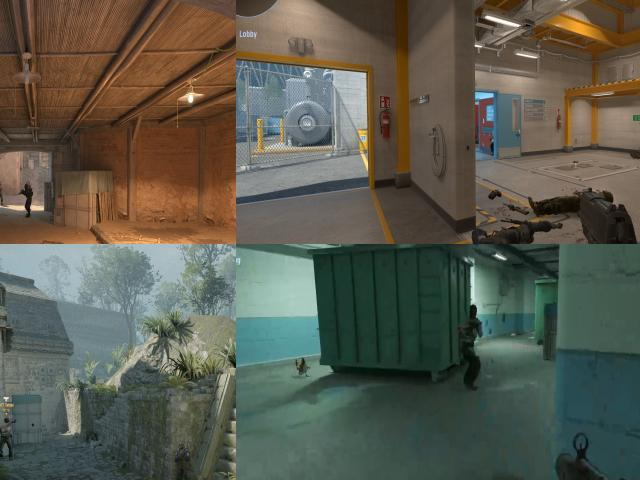Bomb: (571, 157, 583, 168)
CT: (170, 439, 191, 480), (22, 184, 33, 215), (0, 179, 2, 203)
CT-Head: (177, 441, 187, 455), (24, 184, 28, 188)
Dead: (472, 212, 556, 244), (626, 143, 640, 161)
T: (461, 310, 484, 353), (0, 414, 14, 463)
T-Head: (467, 302, 480, 320), (2, 416, 11, 426)
